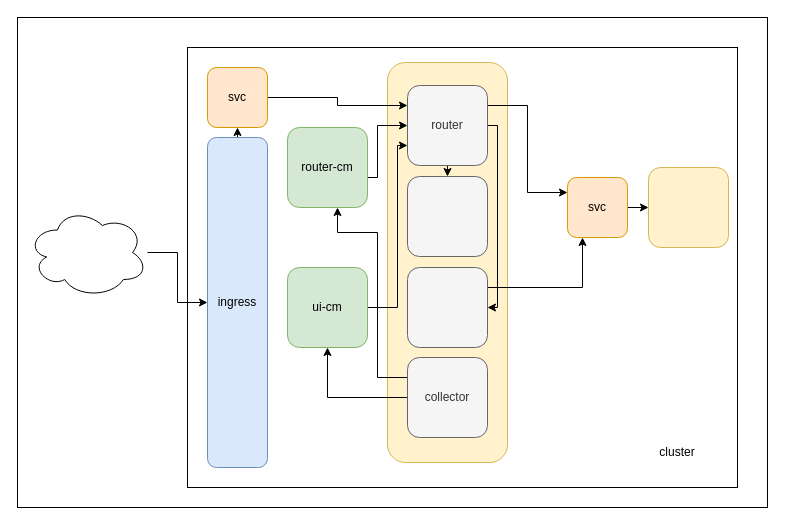
The diagram is 785 pixels wide and 525 high, and some of its shapes have lost their labels. The centre of each missing label's shape, as x and y in pixels:
"app1" goes at (688,207).
"browser" goes at (87,252).
"proxy" goes at (447,307).
"ui" goes at (447,216).
